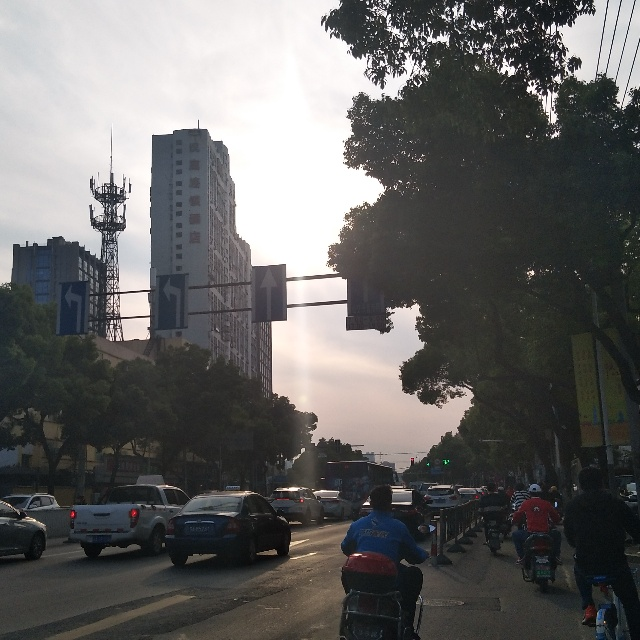left: (157, 277, 187, 327), (65, 280, 84, 332)
straight: (253, 270, 285, 319)
